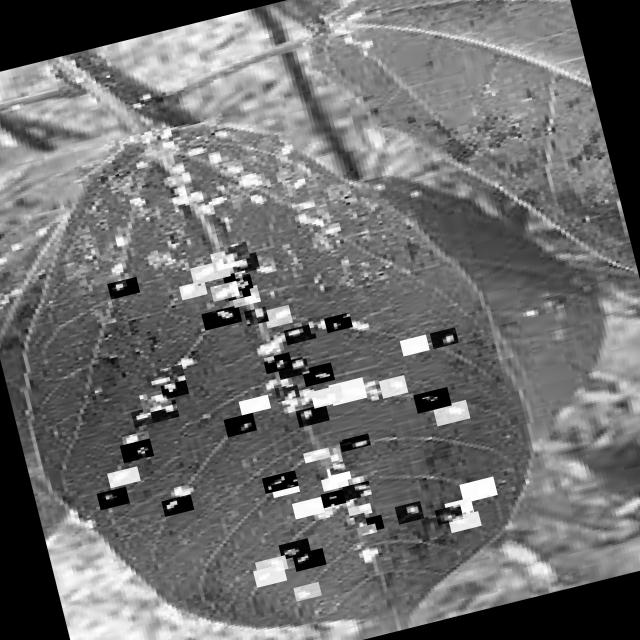scale_insect: (328, 376, 367, 404), (458, 475, 498, 502), (144, 362, 185, 388), (200, 304, 242, 329), (412, 386, 452, 412), (190, 258, 230, 284), (432, 398, 470, 425), (261, 468, 298, 492), (120, 437, 154, 462), (138, 387, 172, 412), (302, 360, 334, 386), (223, 411, 256, 436), (292, 546, 326, 570), (252, 562, 286, 586), (295, 402, 329, 426), (310, 383, 344, 407), (161, 492, 194, 516), (96, 485, 129, 509), (276, 354, 309, 378), (448, 509, 482, 532), (130, 403, 164, 426), (106, 275, 140, 298), (222, 268, 253, 293), (378, 373, 408, 398), (106, 464, 140, 486), (326, 450, 357, 474), (148, 398, 179, 422), (292, 495, 324, 518), (278, 536, 311, 558), (283, 322, 316, 344), (394, 499, 424, 523), (158, 374, 188, 398), (262, 303, 292, 327), (230, 250, 259, 274), (209, 247, 239, 270), (238, 393, 270, 414), (255, 554, 288, 574), (399, 333, 429, 355), (262, 350, 292, 372), (230, 284, 260, 306), (220, 240, 250, 262), (347, 466, 379, 486), (434, 502, 463, 524), (429, 326, 458, 348), (323, 310, 352, 332), (444, 496, 474, 517), (121, 429, 151, 450), (210, 279, 240, 300), (338, 432, 371, 451), (292, 580, 322, 600), (320, 486, 350, 506), (342, 479, 372, 499), (178, 279, 207, 299), (270, 478, 300, 497), (307, 312, 334, 332), (225, 280, 251, 300), (326, 462, 351, 482), (274, 382, 300, 401), (357, 514, 384, 532), (321, 472, 348, 490), (318, 445, 342, 465), (244, 305, 268, 325), (342, 511, 367, 529), (302, 446, 330, 462), (347, 502, 372, 516), (356, 522, 377, 535)
